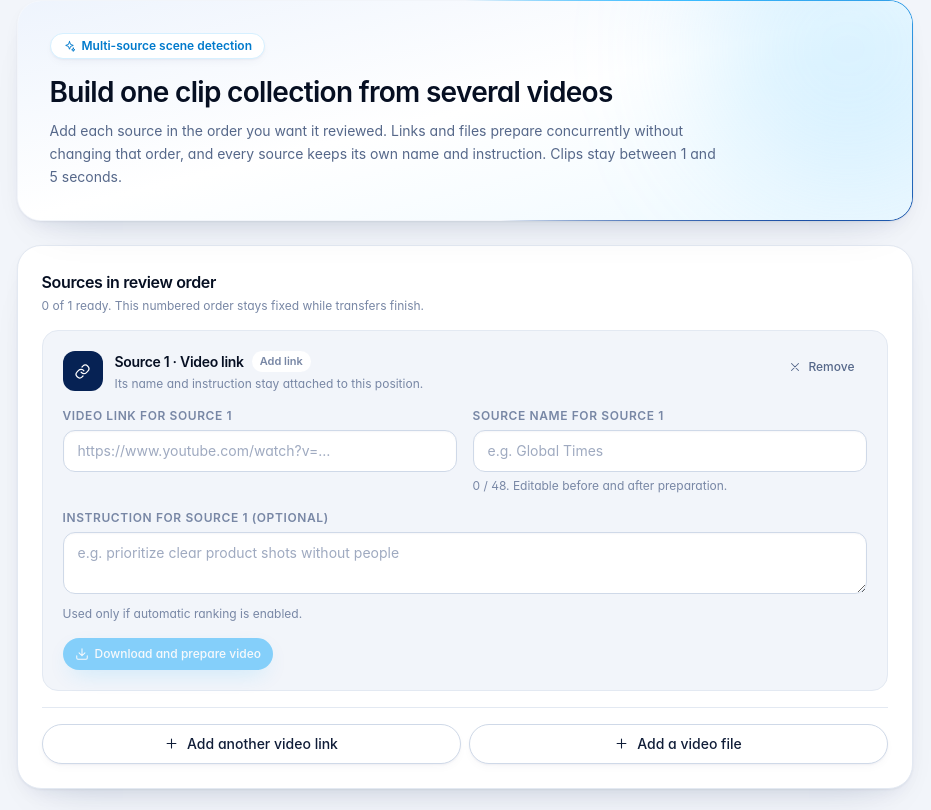
Test: new-job source rows › requires a changed link to be prepared again without losing its name
Type "https://videos.test/old" into the field labelled "Video link for source 1" at [260, 451], box [62,430,456,472]
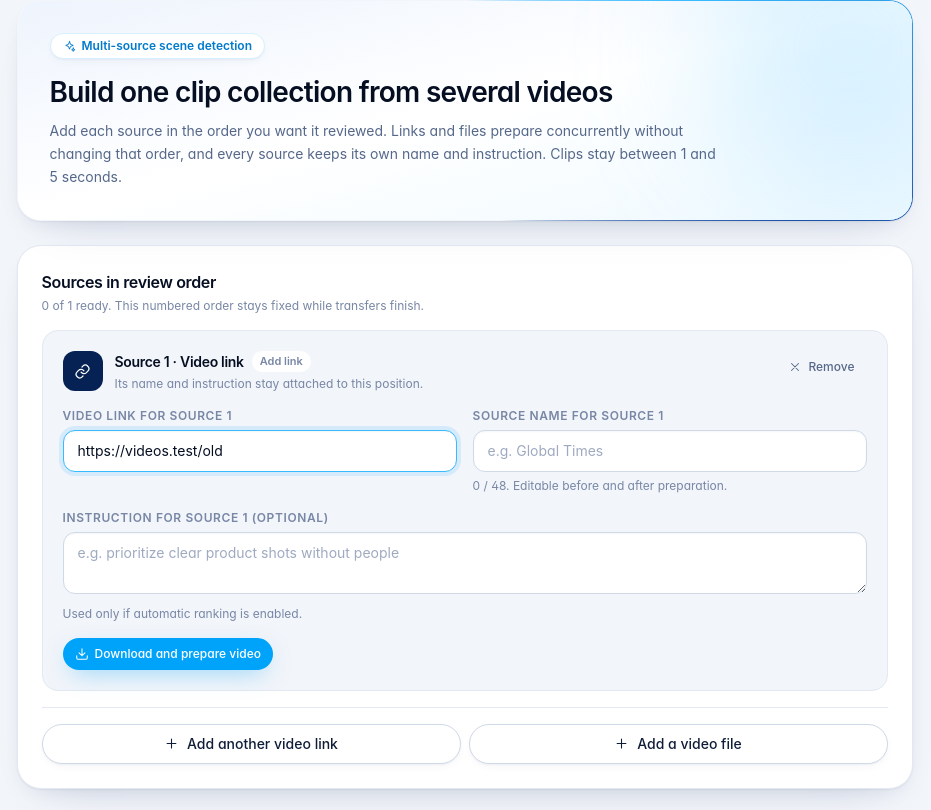
Type "Persistent source name" into the field labelled "Source name for source 1" at [670, 451], box [472,430,866,472]
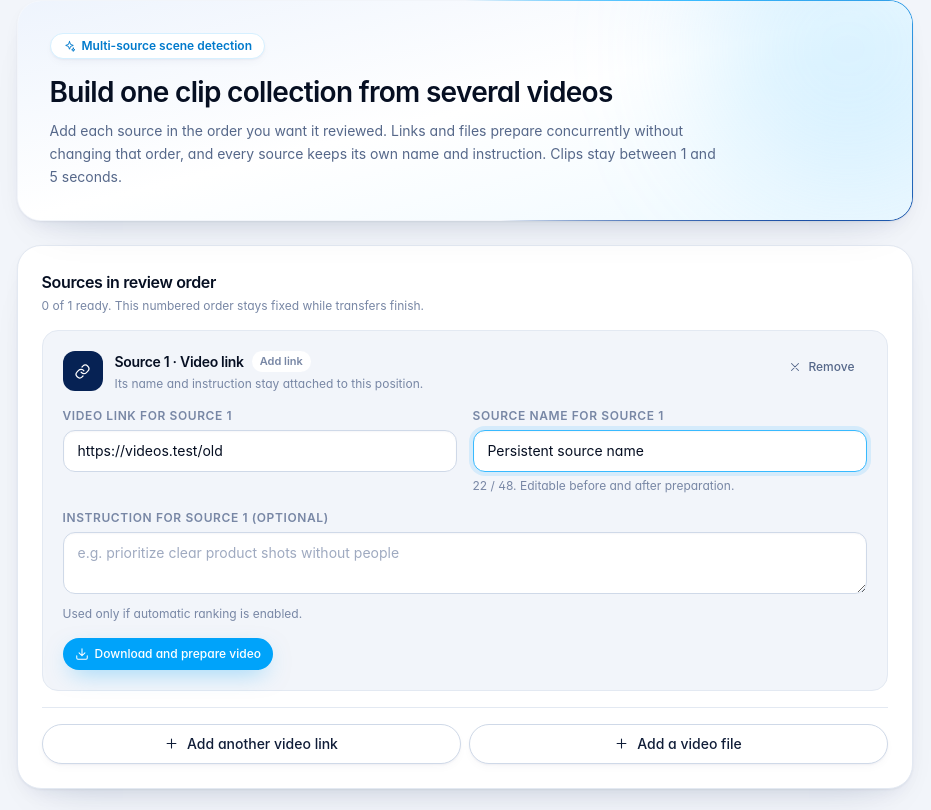
Click the button "Download and prepare video" at [168, 654], box [62,638,273,670]
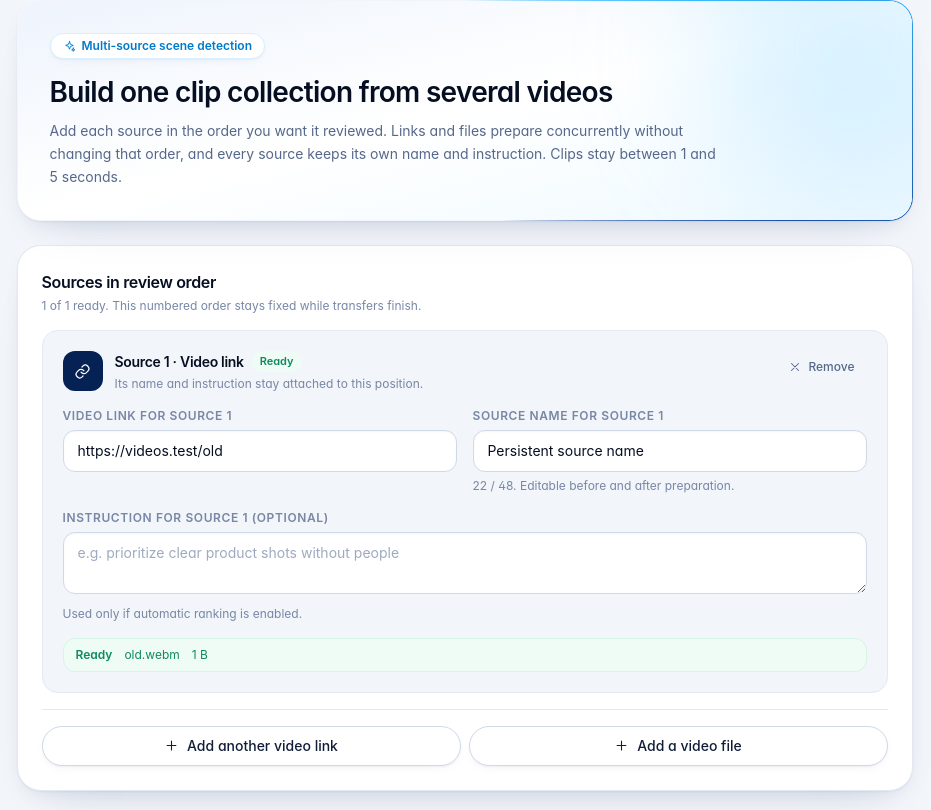
Now the text "old.webm" is shown, box [124,647,180,663]
Replace the text in the field labelled "Video link for source 1" with "https://videos.test/new" at [260, 451], box [62,430,456,472]
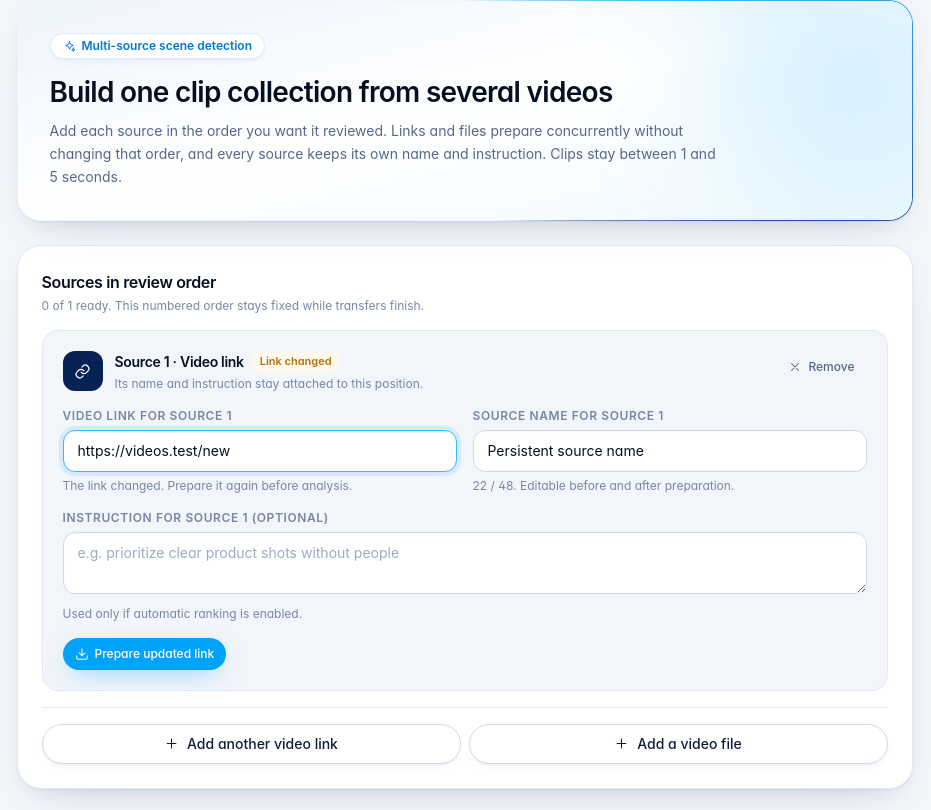
Now the text "Link changed" is shown, box [252,351,340,372]
Click the button "Prepare updated link" at [144, 654], box [62,638,226,670]
(page scrolled)
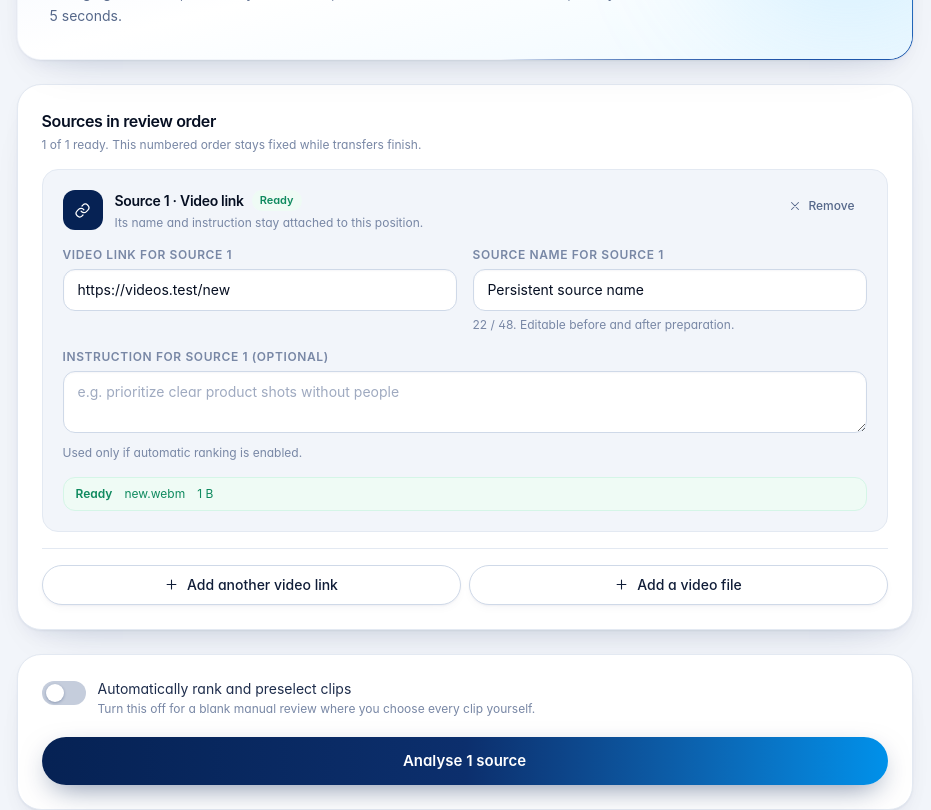
Now the text "new.webm" is shown, box [124,486,185,502]
Now the button "Analyse 1 source" is enabled, box [42,737,888,785]
